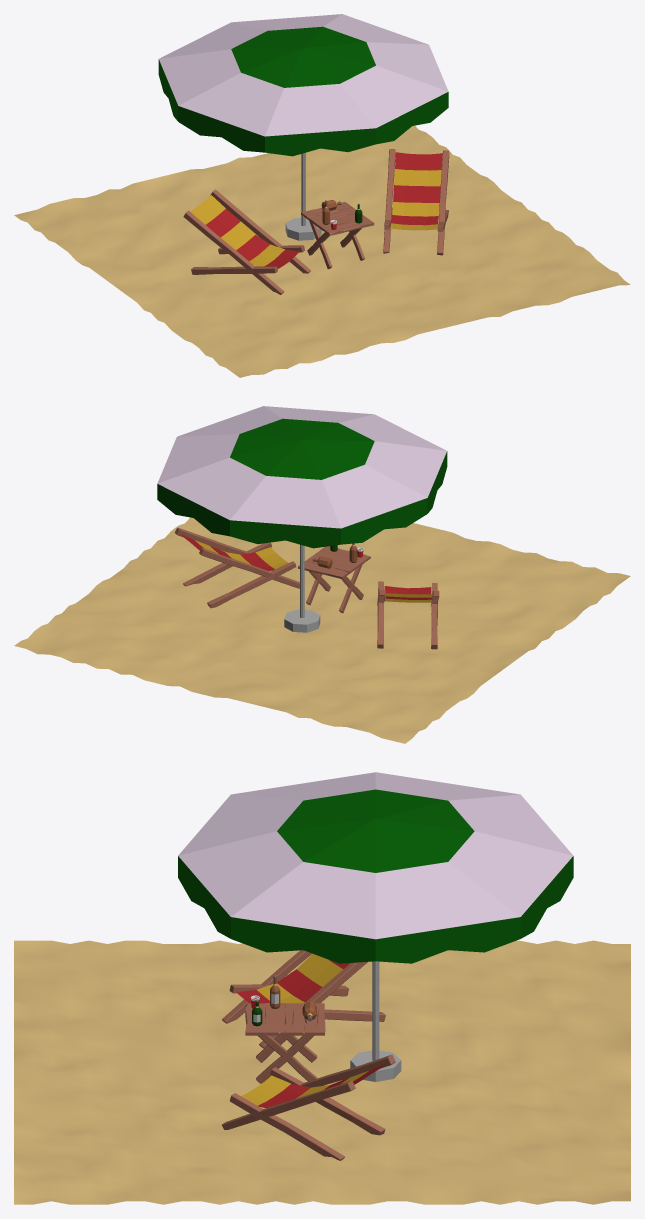
The model's file is at_a_beach.glb.
The picture shows the model from 3 angles, top to bottom: view 1: azimuth 30°, elevation 25°; view 2: azimuth 150°, elevation 25°; view 3: azimuth 270°, elevation 25°; orthographic projection. The views are drawn at different scales.
Parts seen in each view (by area): view 1: Plane_8, Plane.001_10, Cube.004_1, Cube.001_2, Cube.010_3, Cylinder.002_9; view 2: Plane_8, Plane.001_10, Cube.001_2, Cube.010_3, Cube.004_1, Cylinder.002_9; view 3: Plane_8, Plane.001_10, Cube.001_2, Cube.004_1, Cube.010_3, Cylinder.002_9.
Boxes of the visible parts, x1,y1,x2,y2 form: Plane_8: (14,125,630,377); Plane.001_10: (158,14,448,156); Cube.004_1: (183,189,310,294); Cube.001_2: (383,149,449,255); Cube.010_3: (301,202,374,269); Cylinder.002_9: (285,152,321,240); Plane_8: (14,517,630,743); Plane.001_10: (157,406,447,548); Cube.001_2: (174,527,299,608); Cube.010_3: (298,546,370,613); Cube.004_1: (377,581,439,649); Cylinder.002_9: (284,544,320,632); Plane_8: (14,940,630,1204); Plane.001_10: (178,772,573,963); Cube.001_2: (222,1054,395,1160); Cube.004_1: (222,950,385,1048); Cube.010_3: (245,1003,325,1083); Cylinder.002_9: (350,961,401,1081).
Bounding box in the file's own units: 13.28 × 6.14 × 13.28.
